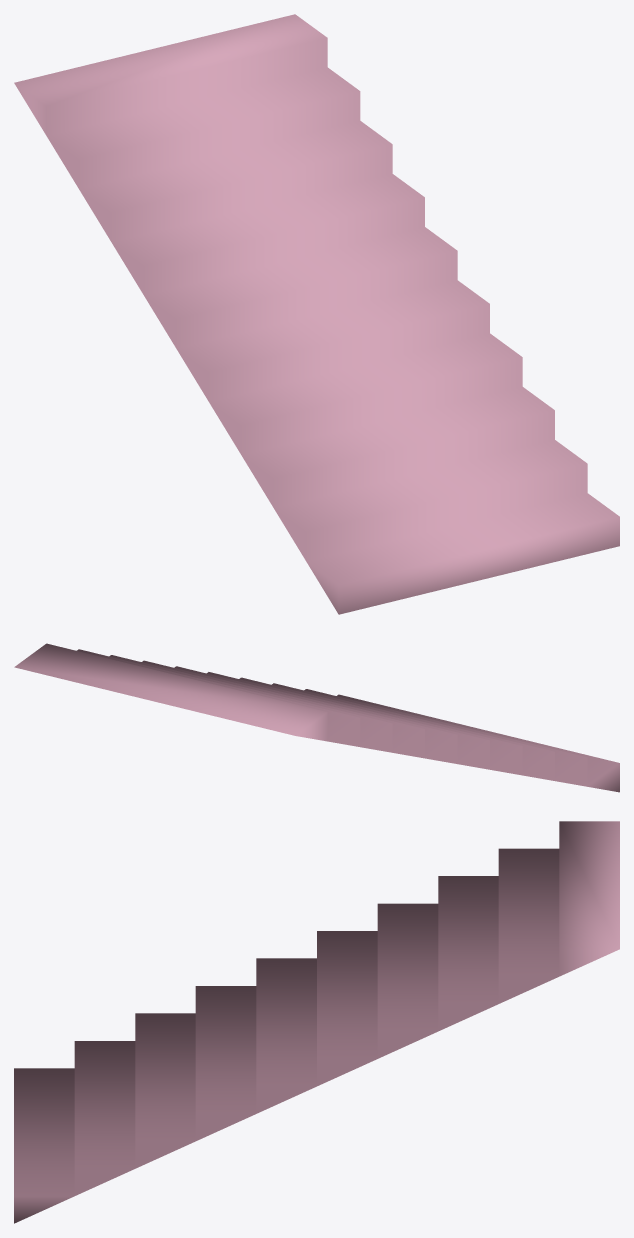
Rendered from Stairs_Med.fbx.
3 renders of one model, top to bottom at view 1: azimuth 30°, elevation 25°; view 2: azimuth 150°, elevation 25°; view 3: azimuth 270°, elevation 25°, orthographic. The views are drawn at different scales.
Visible parts, largest first — view 1: Stair_Base_Med; view 2: Stair_Base_Med; view 3: Stair_Base_Med.
Boxes of the visible parts, x1,y1,x2,y2 form: Stair_Base_Med: (14,14,619,614); Stair_Base_Med: (14,643,619,792); Stair_Base_Med: (14,821,619,1223).
Bounding box in the file's own units: 2000 × 2000 × 4000.
